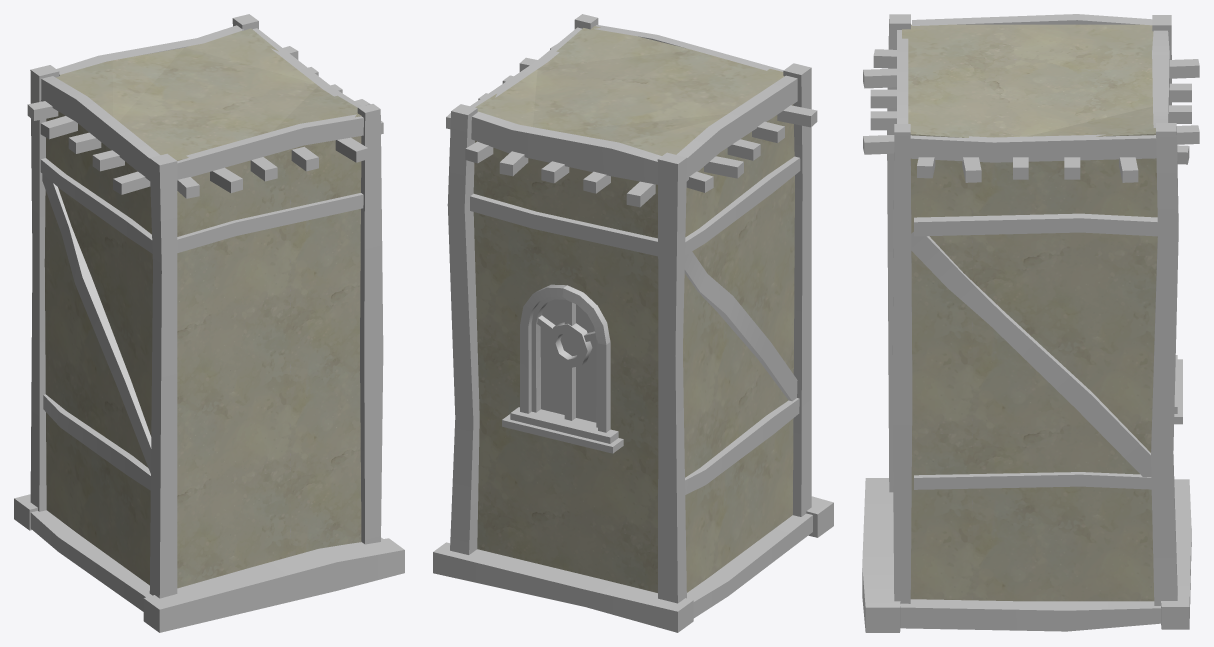
File: A_TowerSmall_Floor_B.fbx
3 views of the same model, side by side, from view 1: azimuth 30°, elevation 25°; view 2: azimuth 150°, elevation 25°; view 3: azimuth 270°, elevation 25° (orthographic). The views are drawn at different scales.
Parts seen in each view (by area): view 1: A_TowerSmall_Floor_B, A_TowerSmall_Floor_B_KitPart; view 2: A_TowerSmall_Floor_B, A_TowerSmall_Floor_B_KitPart; view 3: A_TowerSmall_Floor_B, A_TowerSmall_Floor_B_KitPart.
Part boxes in pixels (x1=…): A_TowerSmall_Floor_B: x1=44, y1=28, x2=361, y2=588; A_TowerSmall_Floor_B_KitPart: x1=14, y1=14, x2=404, y2=632; A_TowerSmall_Floor_B: x1=473, y1=26, x2=794, y2=592; A_TowerSmall_Floor_B_KitPart: x1=433, y1=14, x2=833, y2=632; A_TowerSmall_Floor_B: x1=902, y1=24, x2=1157, y2=601; A_TowerSmall_Floor_B_KitPart: x1=862, y1=14, x2=1199, y2=632.
Size of the model in its own units: 274 by 447 by 275.
